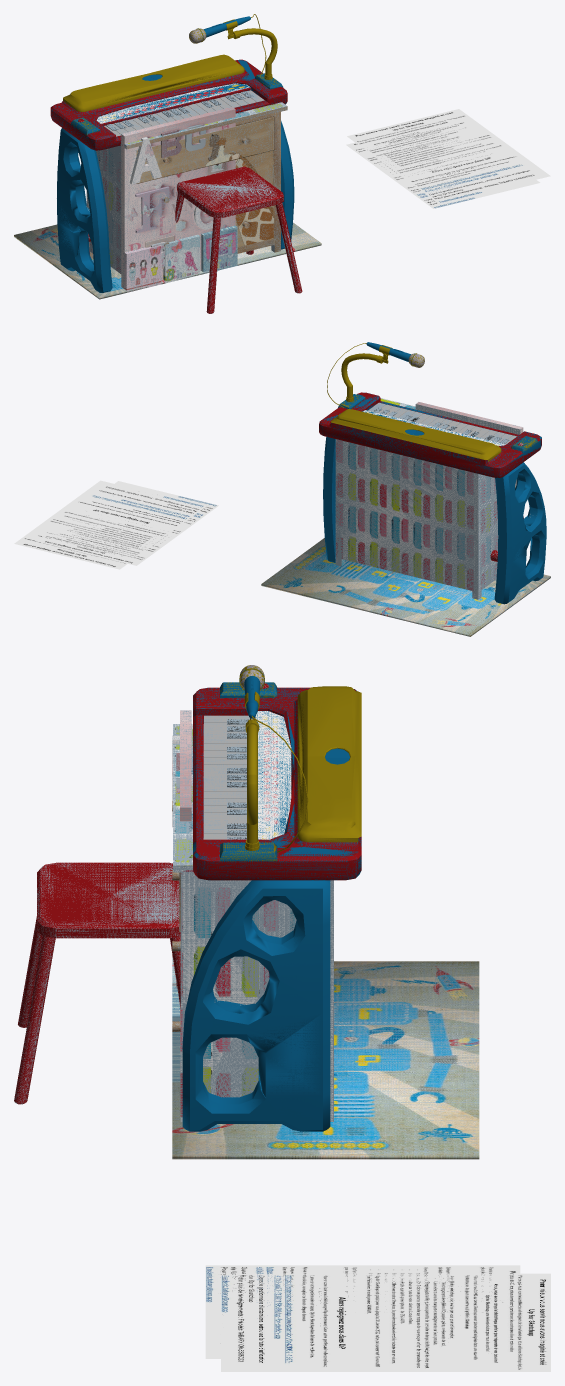
File: Furniture-86.fbx
The picture shows the model from 3 angles, top to bottom: view 1: azimuth 30°, elevation 25°; view 2: azimuth 150°, elevation 25°; view 3: azimuth 270°, elevation 25°; orthographic projection. The views are drawn at different scales.
Visible parts, largest first — view 1: Groupe_186_1, Groupe_187_1, Kid_piano_C04_2, Kid_piano_C03_1, Kid_piano_C03_2, Kid_piano_G13, Groupe_206_1, Group2, Group3, Kid_piano_G05, Group1, Kid_piano_C04_1 (+3 smaller); view 2: Groupe_187_1, Groupe_206_1, Groupe_186_1, Kid_piano_C04_2, Kid_piano_C03_1, Kid_piano_C03_2, Kid_piano_C04_1, Kid_piano_G06, Kid_piano_G05; view 3: Groupe_206_1, Groupe_186_1, Kid_piano_C04_1, Groupe_187_1, Kid_piano_C03_2, Kid_piano_G13, Kid_piano_C03_1, Kid_piano_G05, Kid_piano_C05_3, Kid_piano_G06, Kid_piano_C05_2.
Boxes of the visible parts, x1,y1,x2,y2 form: Groupe_186_1: (121, 107, 550, 288); Groupe_187_1: (86, 92, 540, 273); Kid_piano_C04_2: (57, 128, 112, 292); Kid_piano_C03_1: (50, 73, 175, 150); Kid_piano_C03_2: (148, 54, 287, 113); Kid_piano_G13: (177, 166, 283, 217); Groupe_206_1: (14, 222, 321, 299); Group2: (124, 245, 161, 291); Group3: (163, 234, 200, 283); Kid_piano_G05: (96, 83, 250, 123); Group1: (201, 225, 237, 273); Kid_piano_C04_1: (281, 121, 294, 249); Groupe_187_1: (36, 398, 515, 599); Groupe_206_1: (261, 538, 550, 636); Groupe_186_1: (14, 402, 523, 569); Kid_piano_C04_2: (494, 462, 546, 604); Kid_piano_C03_1: (408, 418, 541, 477); Kid_piano_C03_2: (319, 392, 451, 456); Kid_piano_C04_1: (323, 437, 335, 562); Kid_piano_G06: (341, 353, 388, 401); Kid_piano_G05: (363, 410, 505, 446); Groupe_206_1: (172, 961, 479, 1159); Groupe_186_1: (172, 710, 550, 1371); Kid_piano_C04_1: (182, 880, 330, 1131); Groupe_187_1: (172, 724, 520, 1358); Kid_piano_C03_2: (193, 756, 361, 880); Kid_piano_G13: (37, 862, 180, 938); Kid_piano_C03_1: (193, 682, 361, 783); Kid_piano_G05: (255, 711, 291, 839); Kid_piano_C05_3: (14, 936, 55, 1104); Kid_piano_G06: (245, 719, 259, 850); Kid_piano_C05_2: (18, 916, 42, 1027).
Size of the model in its own units: 2.52 by 1.16 by 1.4.
